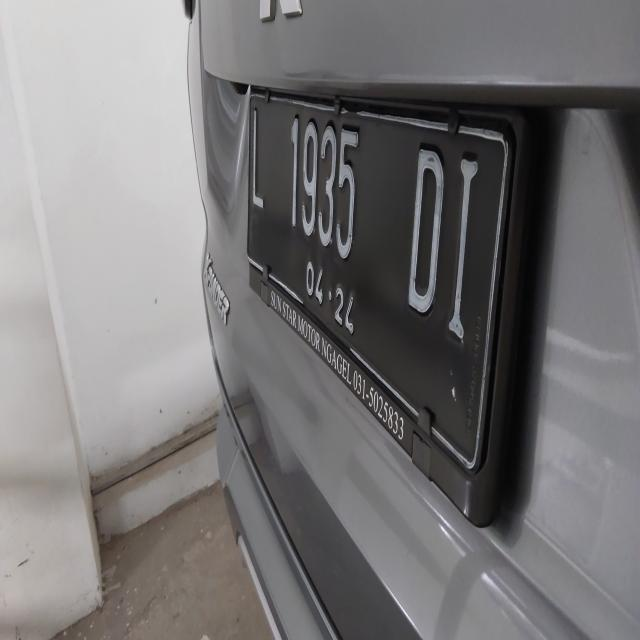1: (282, 106, 302, 237)
3: (318, 114, 336, 263)
5: (334, 117, 357, 273)
9: (296, 110, 318, 240)
D: (399, 126, 442, 325)
I: (441, 135, 498, 355)
L: (240, 94, 272, 230)
